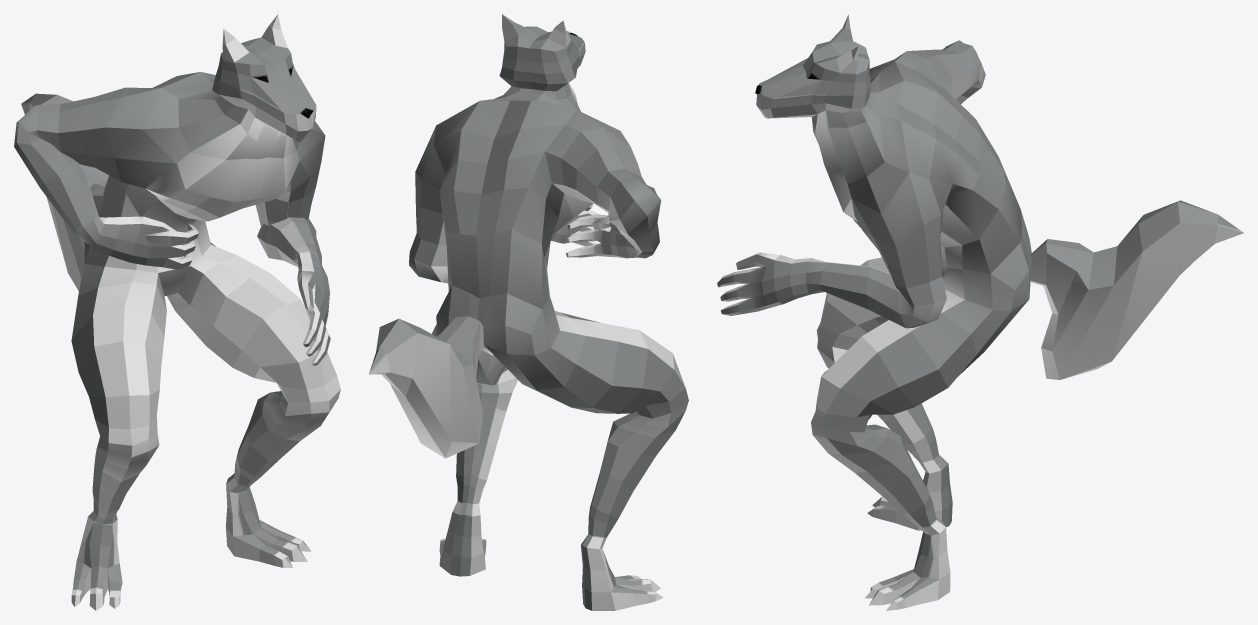
File: WolfIdle_(49).obj
The picture shows the model from 3 angles, left to right: view 1: azimuth 30°, elevation 25°; view 2: azimuth 150°, elevation 25°; view 3: azimuth 270°, elevation 25°; orthographic projection. The views are drawn at different scales.
Visible parts, largest first — view 1: Box001; view 2: Box001; view 3: Box001.
Part boxes in pixels (bbox=[...]): Box001: bbox=[14, 14, 340, 610]; Box001: bbox=[369, 14, 688, 610]; Box001: bbox=[717, 14, 1243, 610].
Size of the model in its own units: 68.24 by 133 by 115.
